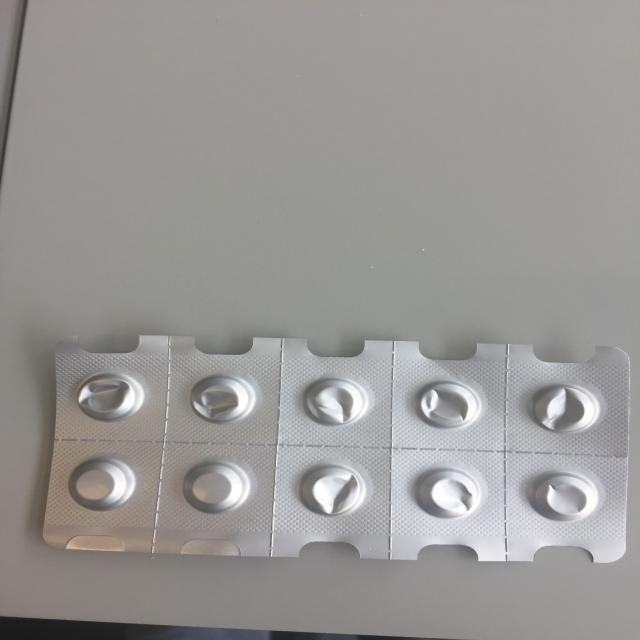Empty: (408, 462, 490, 524), (182, 368, 261, 427), (524, 378, 599, 440), (407, 376, 486, 432), (530, 468, 606, 526), (297, 372, 370, 432), (67, 370, 150, 422), (296, 462, 372, 518)
Pill: (63, 455, 145, 511), (176, 460, 252, 514)
